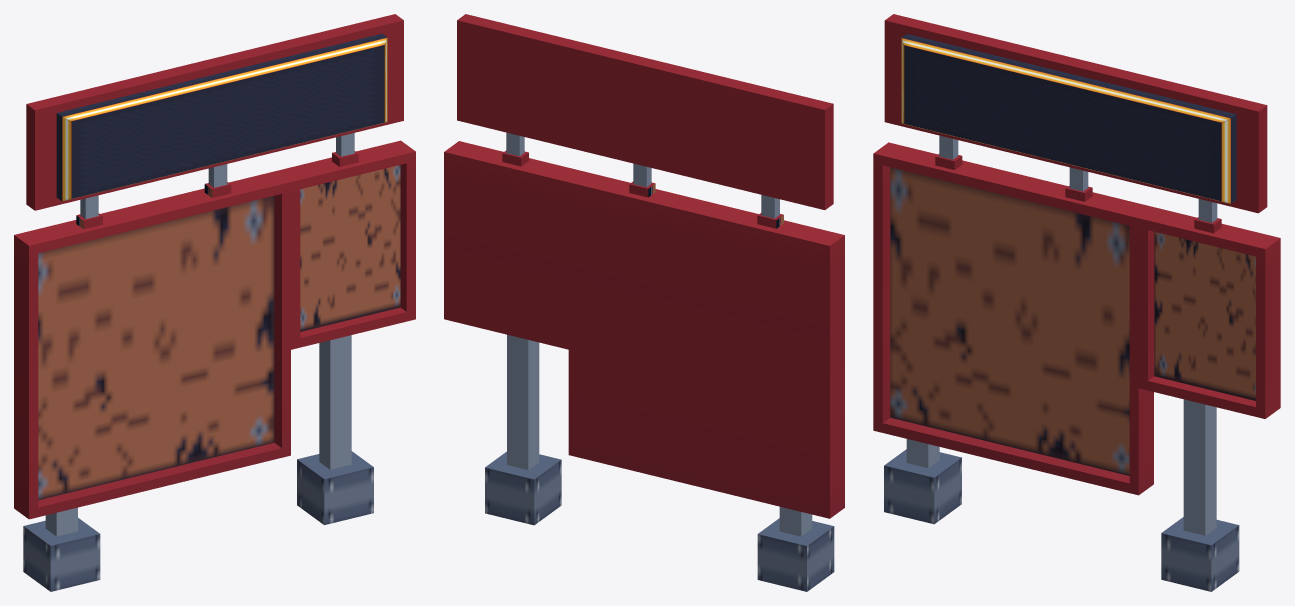
The model's file is Letreiro Grande.v1.fbx.
3 views of the same model, side by side, from view 1: azimuth 30°, elevation 25°; view 2: azimuth 150°, elevation 25°; view 3: azimuth 330°, elevation 25° (orthographic).
Parts seen in each view (by area): view 1: Letreiro Grande; view 2: Letreiro Grande; view 3: Letreiro Grande.
Boxes of the visible parts, x1,y1,x2,y2 form: Letreiro Grande: [14, 14, 415, 591]; Letreiro Grande: [444, 14, 844, 591]; Letreiro Grande: [873, 14, 1280, 591].
Bounding box in the file's own units: 428 × 53.29 × 505.
